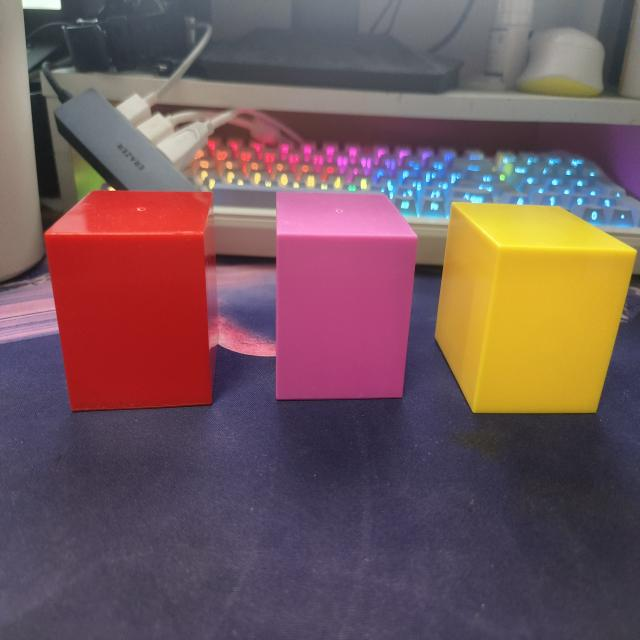pink: (273, 191, 419, 403)
red: (43, 189, 214, 415)
yellow: (434, 202, 637, 418)
